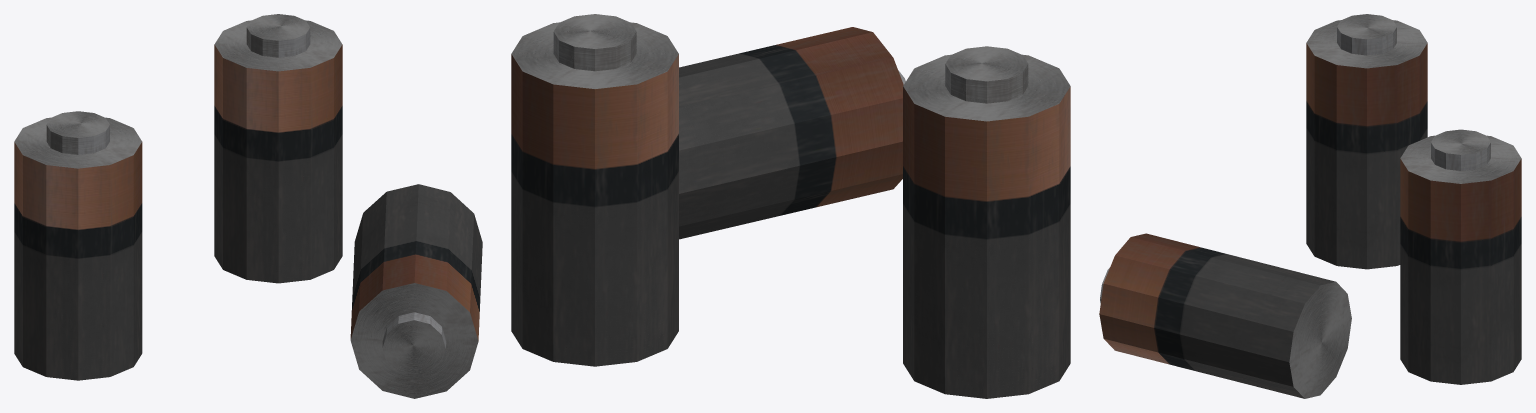
The model's file is Bateria.fbx.
The picture shows the model from 3 angles, left to right: view 1: azimuth 30°, elevation 25°; view 2: azimuth 150°, elevation 25°; view 3: azimuth 270°, elevation 25°; orthographic projection. The views are drawn at different scales.
Visible parts, largest first — view 1: Bateria; view 2: Bateria; view 3: Bateria.
Part boxes in pixels (<box>): Bateria: <box>14,14,482,398</box>; Bateria: <box>511,14,1070,398</box>; Bateria: <box>1099,14,1521,398</box>.
Bounding box in the file's own units: 19.28 × 10.32 × 17.75.
